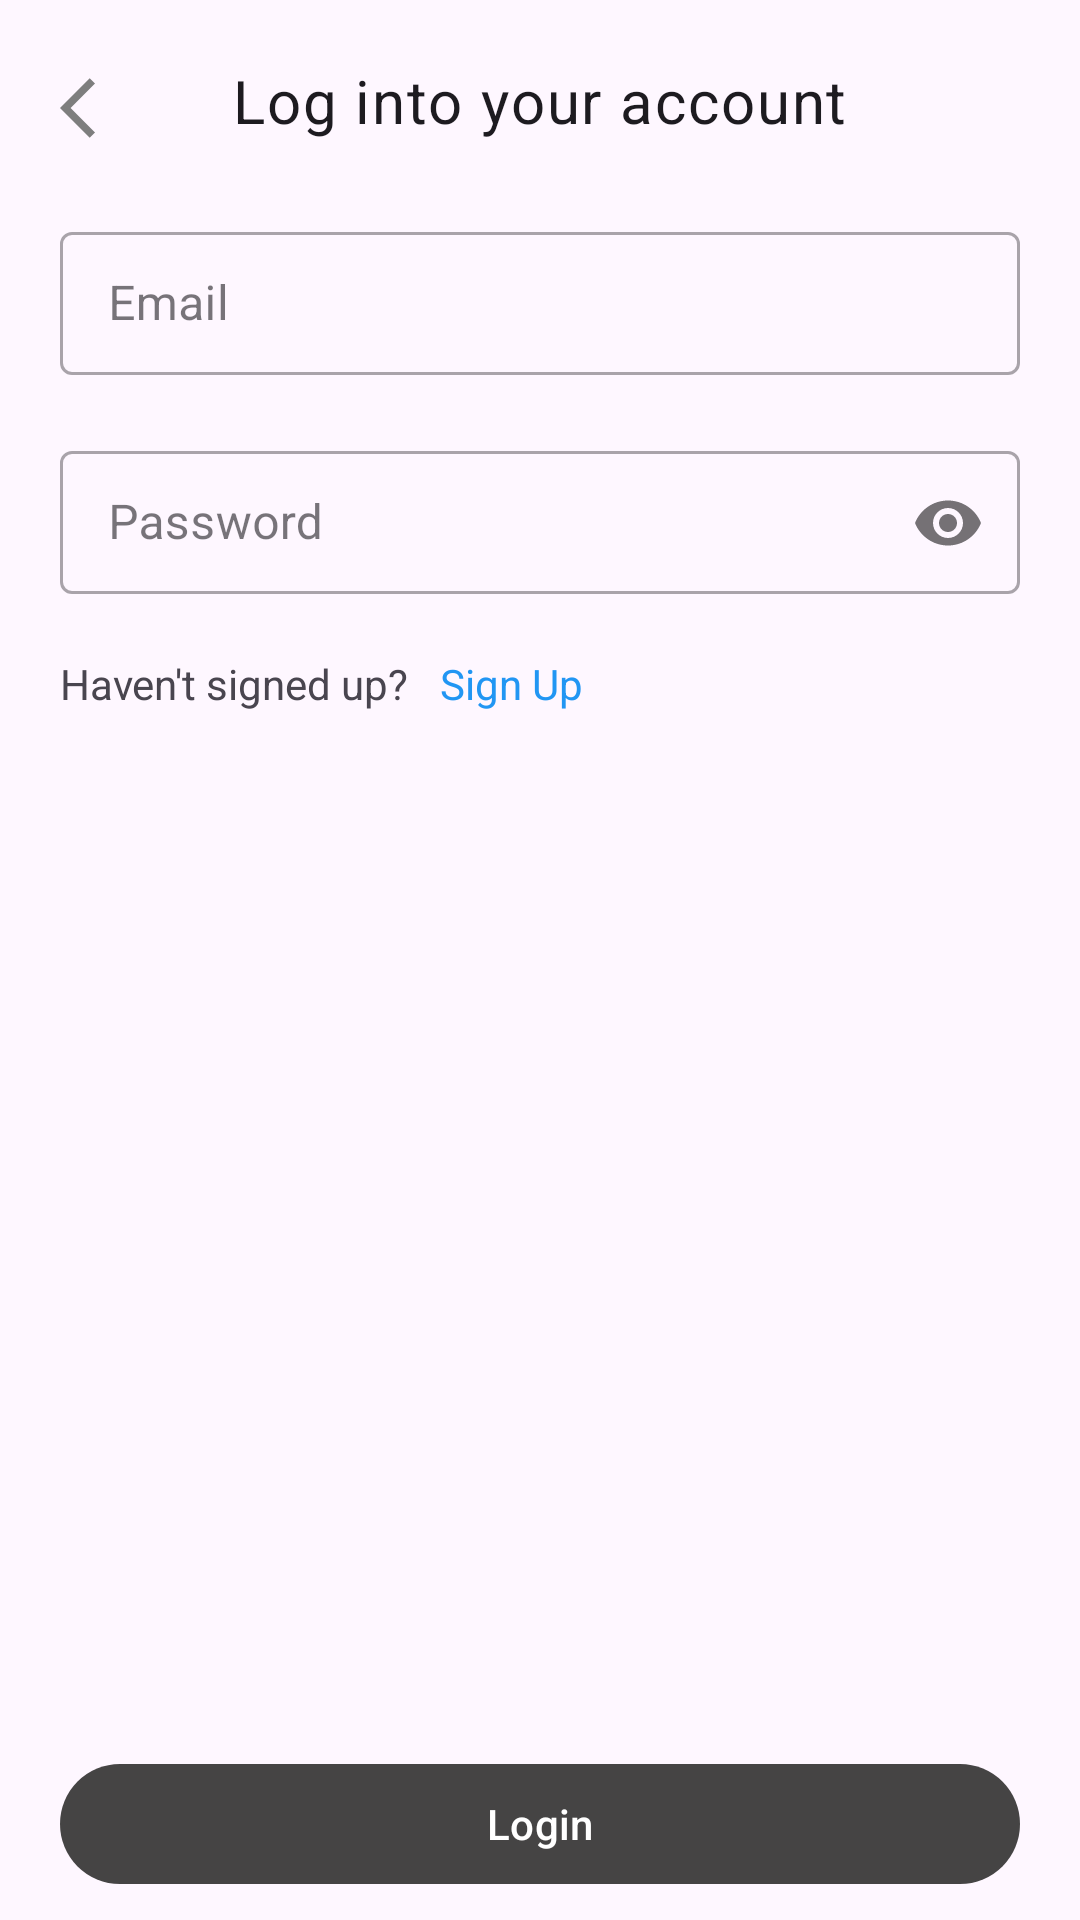

Named icons in this screenshot (1080 x 1920) and their bounding boxes, (x1, y1, x2, y2):
arrow back: (60, 78, 95, 138)
